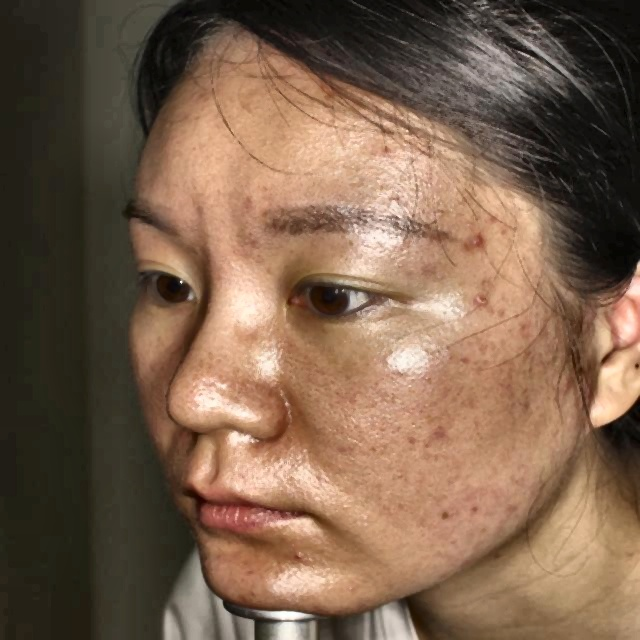comedone: (289, 542, 314, 564), (465, 229, 491, 248), (470, 291, 490, 314), (557, 376, 577, 399)
